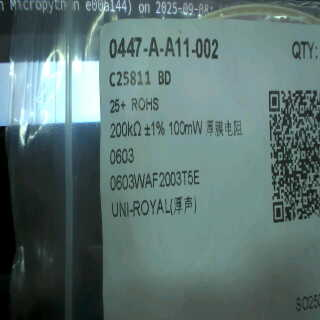200kR: (108, 118, 142, 139)
